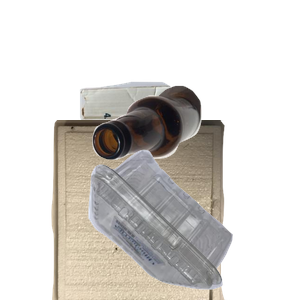cardboard: (77, 79, 251, 227)
glass: (90, 83, 300, 235)
plastic: (86, 147, 300, 300)
trash: (49, 120, 269, 300)
